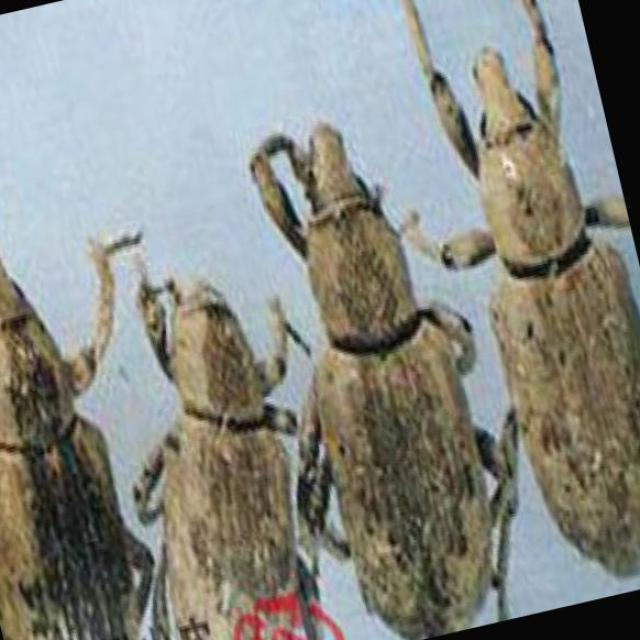ricebug: (401, 0, 640, 574), (251, 123, 492, 640), (139, 263, 333, 640), (0, 253, 154, 640)
